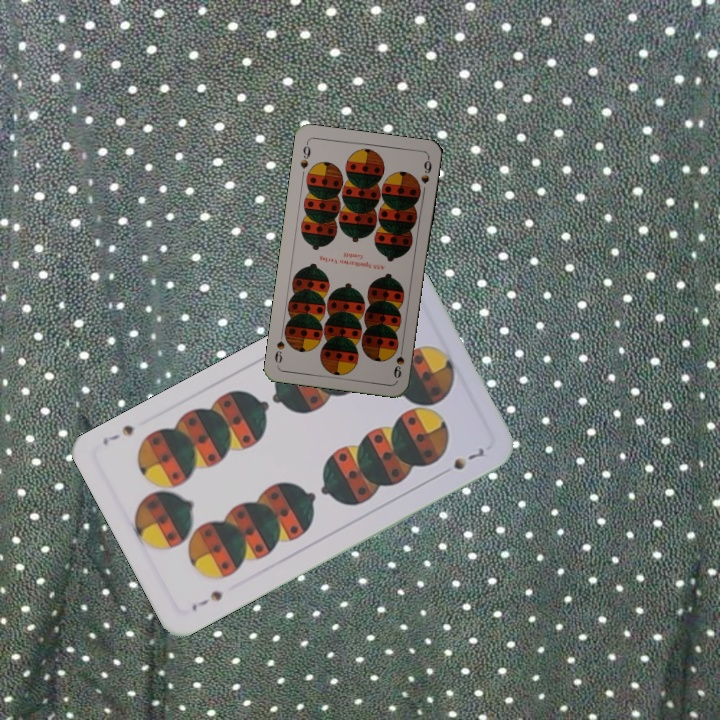S7: (187, 586, 226, 614)
S9: (389, 341, 407, 381), (296, 138, 313, 171)
